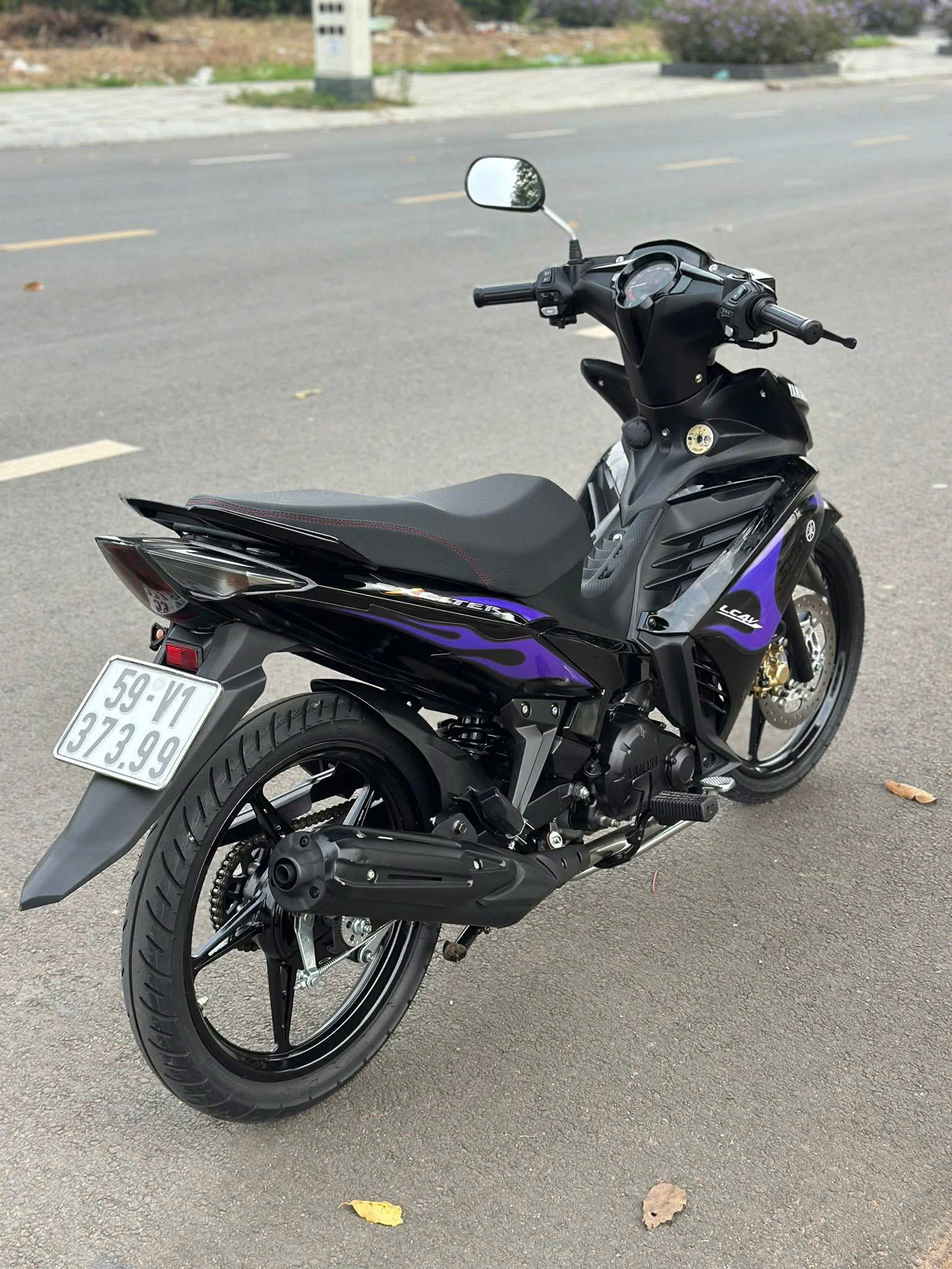Bien-so: (47, 655, 219, 793)
